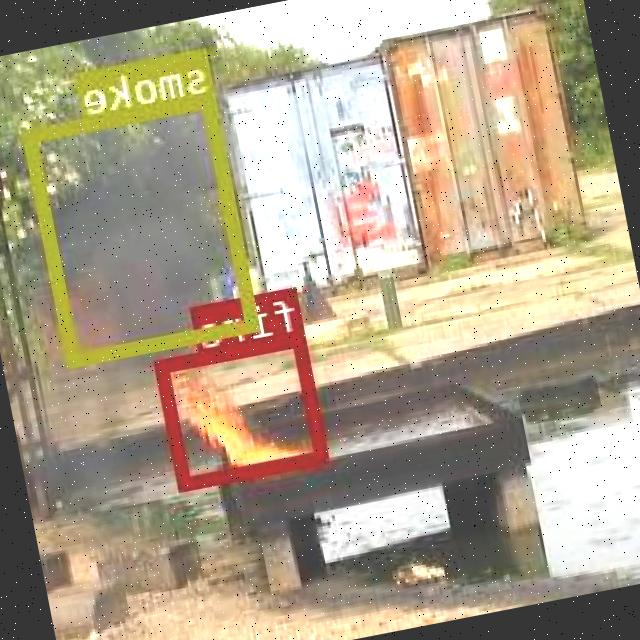fire: (158, 328, 330, 486)
smoke: (25, 90, 262, 364)
